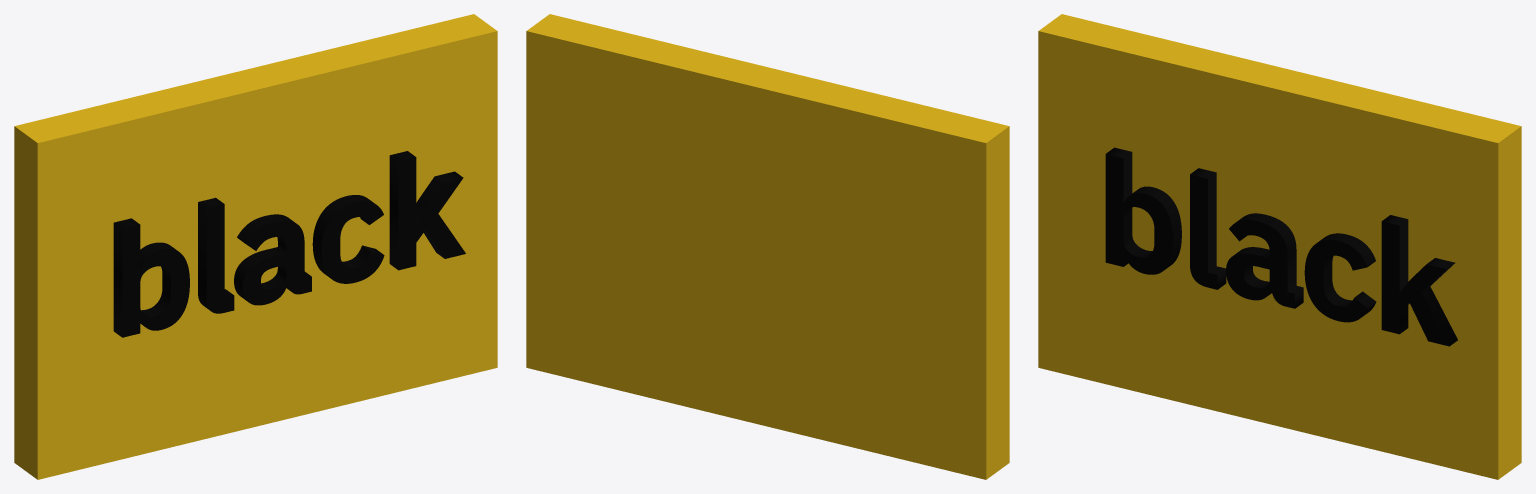
The model's file is back1.glb.
3 renders of one model, left to right at view 1: azimuth 30°, elevation 25°; view 2: azimuth 150°, elevation 25°; view 3: azimuth 330°, elevation 25°, orthographic.
Visible parts, largest first — view 1: Plane.022, Text.008; view 2: Plane.022; view 3: Plane.022, Text.008.
Part boxes in pixels (x1,y1,x2,y2): Plane.022: (14, 14, 497, 479); Text.008: (113, 151, 465, 337); Plane.022: (526, 14, 1009, 479); Plane.022: (1038, 14, 1521, 479); Text.008: (1105, 147, 1457, 346).
Size of the model in its own units: 0.2 by 0.14 by 0.0241.
